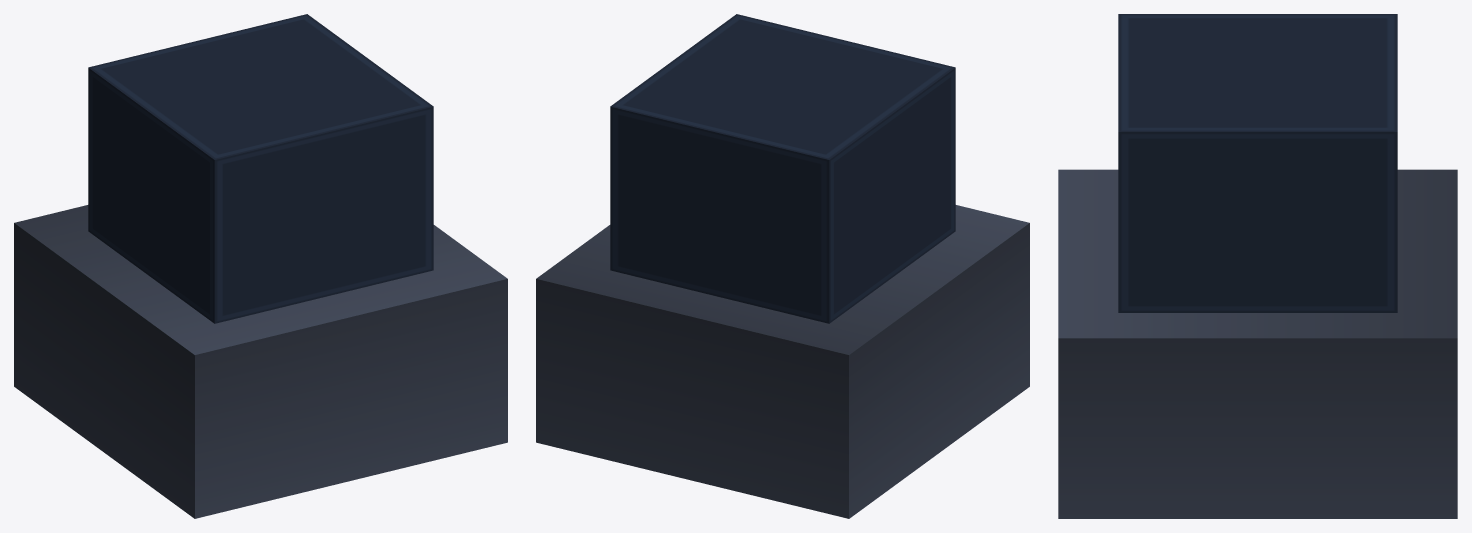
File: KIT_Wall_Cross_4.glb
The picture shows the model from 3 angles, left to right: view 1: azimuth 30°, elevation 25°; view 2: azimuth 150°, elevation 25°; view 3: azimuth 270°, elevation 25°; orthographic projection. The views are drawn at different scales.
Parts seen in each view (by area): view 1: KIT_Wall_Cross_4; view 2: KIT_Wall_Cross_4; view 3: KIT_Wall_Cross_4.
Boxes of the visible parts, box(x1,y1,x2,y2) form: KIT_Wall_Cross_4: box(14, 14, 507, 518); KIT_Wall_Cross_4: box(536, 14, 1029, 518); KIT_Wall_Cross_4: box(1058, 14, 1457, 518).
Size of the model in its own units: 4 by 4 by 4.
1 material, 1 textured.
